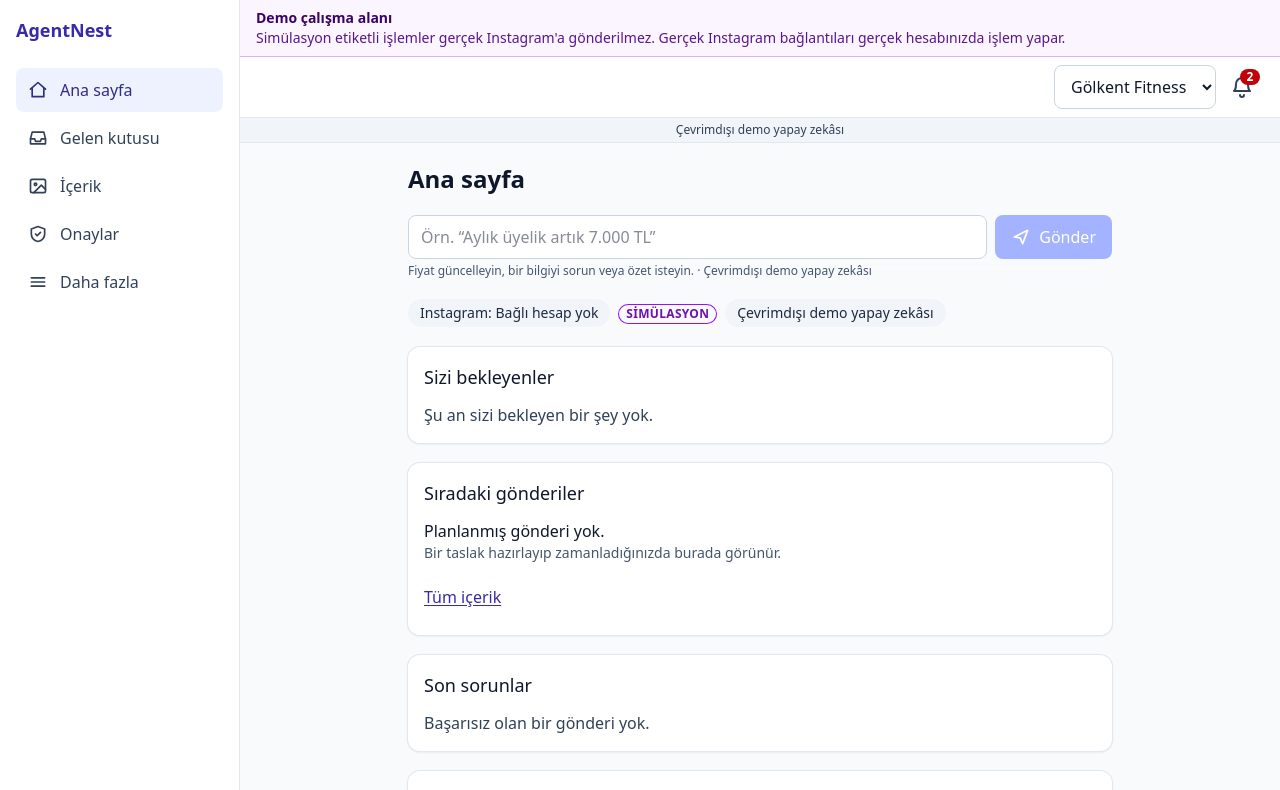
Test: notification bell › shows the unread count and opens the notification centre
Expected: the text with test id "notification-count" reads "2", [1247,68,1254,85]
Click the link named "Bildirimler, 2 okunmamış bildirim" at (1245, 84), box [1230,69,1260,99]
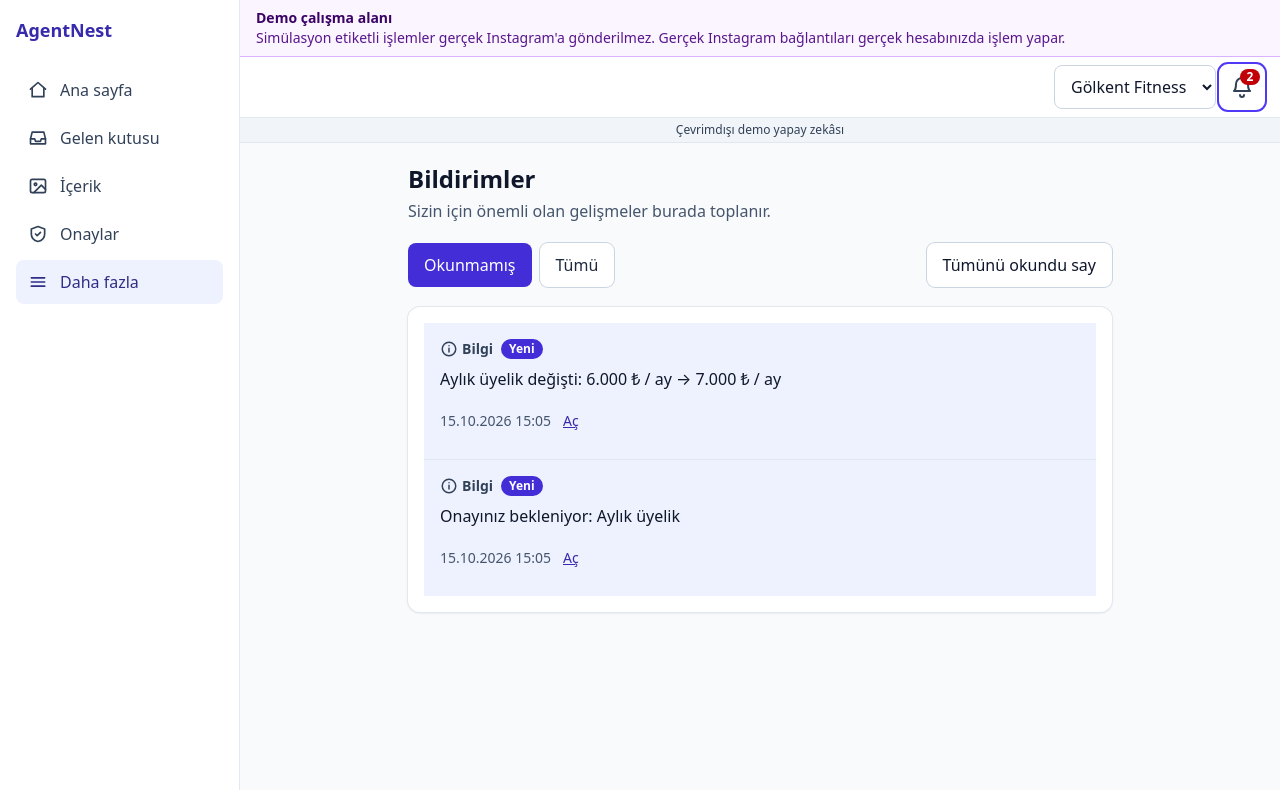
Expected: the heading "Bildirimler" is shown, [408,162,536,195]
